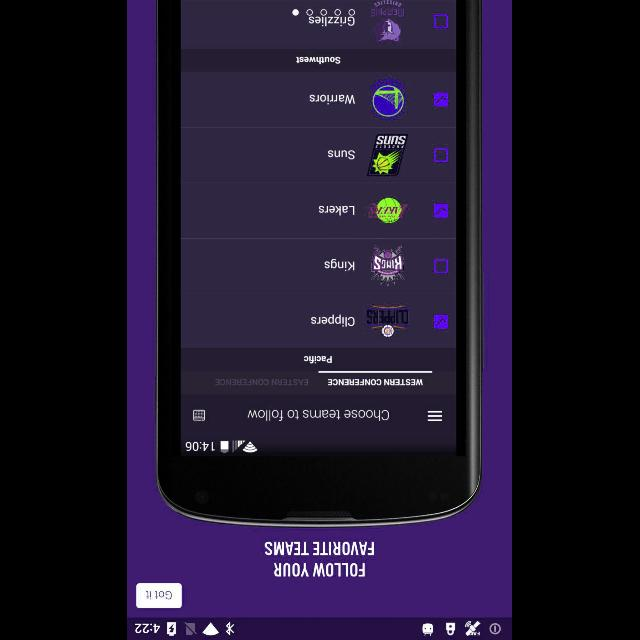image: (156, 0, 484, 528)
pageindicator: (292, 8, 356, 15)
text: (266, 542, 374, 576)
textbutton: (137, 582, 183, 608)
uppertaskbar: (128, 617, 512, 639)
